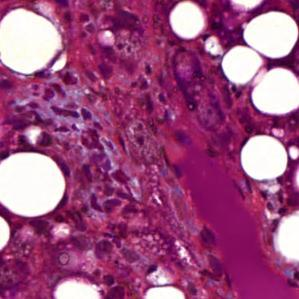steatosis: (240, 129, 289, 185), (221, 40, 265, 87)
